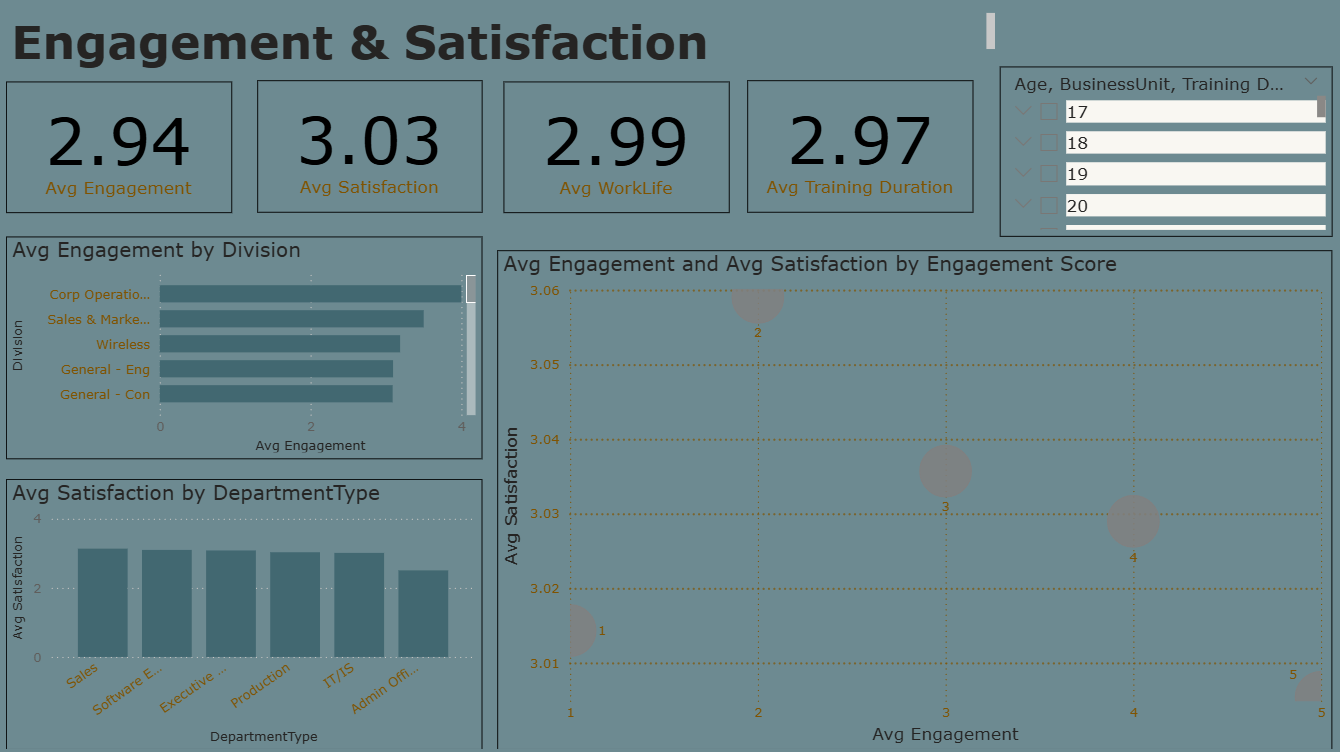

The page's visual inventory and layout, read from the dashboard file:
{"tool":"powerbi","page":{"name":"Engagement & Satisfaction ","canvas":[1280,720],"ordinal":2},"visuals":[{"type":"card","fields":{"Values":["HR.Avg Engagement"]},"box":[18.8,86.2,210,122.5],"z":0},{"type":"card","fields":{"Values":["HR.Avg WorkLife"]},"box":[481.2,86.2,210,122.5],"z":1000},{"type":"card","fields":{"Values":["HR.Avg Satisfaction"]},"box":[252.3,84.9,209.3,123.3],"z":2000},{"type":"barChart","fields":{"Category":["HR.Division"],"Y":["HR.Avg Engagement"]},"box":[18.6,230.2,443,207],"z":3000},{"type":"clusteredColumnChart","fields":{"Category":["HR.DepartmentType"],"Y":["HR.Avg Satisfaction"]},"box":[18.6,455.8,443,252.3],"z":4000},{"type":"scatterChart","fields":{"X":["HR.Avg Engagement"],"Y":["HR.Avg Satisfaction"],"Category":["HR.Engagement Score"]},"box":[475.6,243,776.7,465.1],"z":5000},{"type":"slicer","fields":{"Values":["HR.Age","HR.BusinessUnit","HR.Training Duration(Days)"]},"box":[943,72.1,309.3,158.1],"z":6000},{"type":"card","fields":{"Values":["HR.Avg Training Duration"]},"box":[708.1,84.9,210.5,123.3],"z":7000},{"type":"textbox","box":[18.8,17.5,925,68.8],"z":8000}]}

Visuals, with their boxes in screenshot pixels (x1, y1, x2, y2), scaled from the page's 1280x720 canvas onto the 1340x752 screenshot:
card - HR.Avg Engagement: {"left": 20, "top": 90, "right": 240, "bottom": 218}
card - HR.Avg WorkLife: {"left": 504, "top": 90, "right": 724, "bottom": 218}
card - HR.Avg Satisfaction: {"left": 264, "top": 89, "right": 483, "bottom": 217}
barChart - HR.Division x HR.Avg Engagement: {"left": 19, "top": 240, "right": 483, "bottom": 457}
clusteredColumnChart - HR.DepartmentType x HR.Avg Satisfaction: {"left": 19, "top": 476, "right": 483, "bottom": 740}
scatterChart - HR.Avg Engagement x HR.Avg Satisfaction: {"left": 498, "top": 254, "right": 1311, "bottom": 740}
slicer - HR.Age x HR.BusinessUnit: {"left": 987, "top": 75, "right": 1311, "bottom": 240}
card - HR.Avg Training Duration: {"left": 741, "top": 89, "right": 962, "bottom": 217}
textbox: {"left": 20, "top": 18, "right": 988, "bottom": 90}
